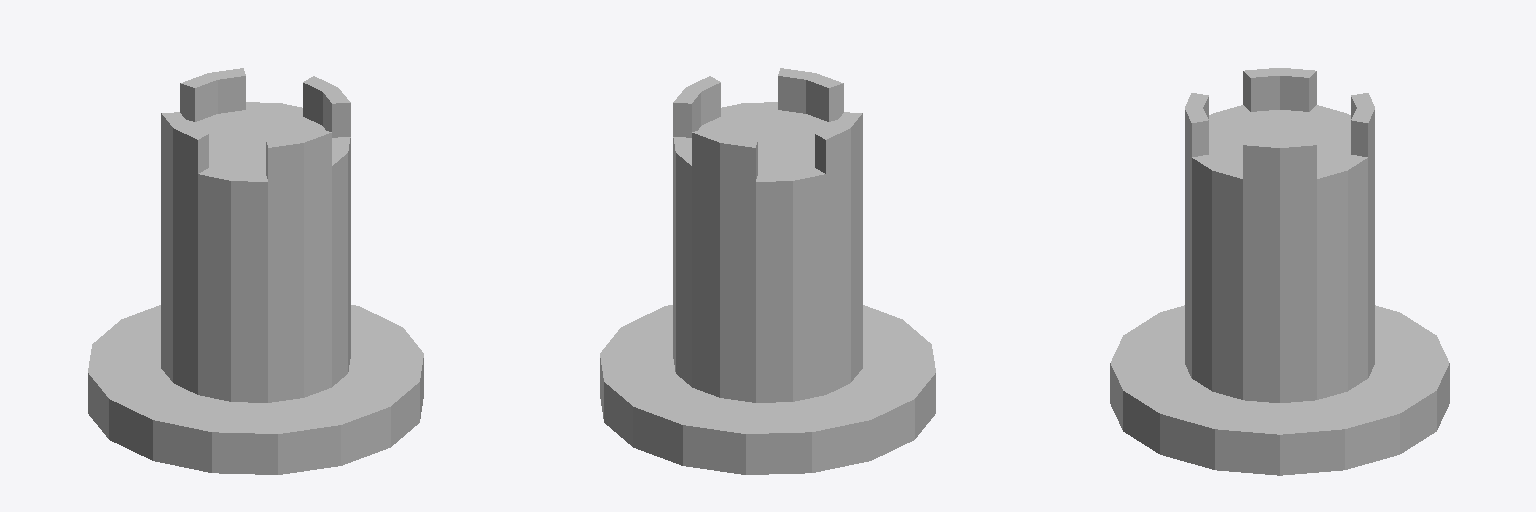
Rendered from placeholder.obj.
3 renders of one model, left to right at view 1: azimuth 30°, elevation 25°; view 2: azimuth 150°, elevation 25°; view 3: azimuth 270°, elevation 25°, orthographic.
Visible parts, largest first — view 1: Cylinder; view 2: Cylinder; view 3: Cylinder.
Boxes of the visible parts, box(x1,y1,x2,y2) form: Cylinder: box(88, 68, 423, 474); Cylinder: box(600, 68, 935, 474); Cylinder: box(1110, 68, 1449, 475).
Bounding box in the file's own units: 1.5 × 1.44 × 1.5.